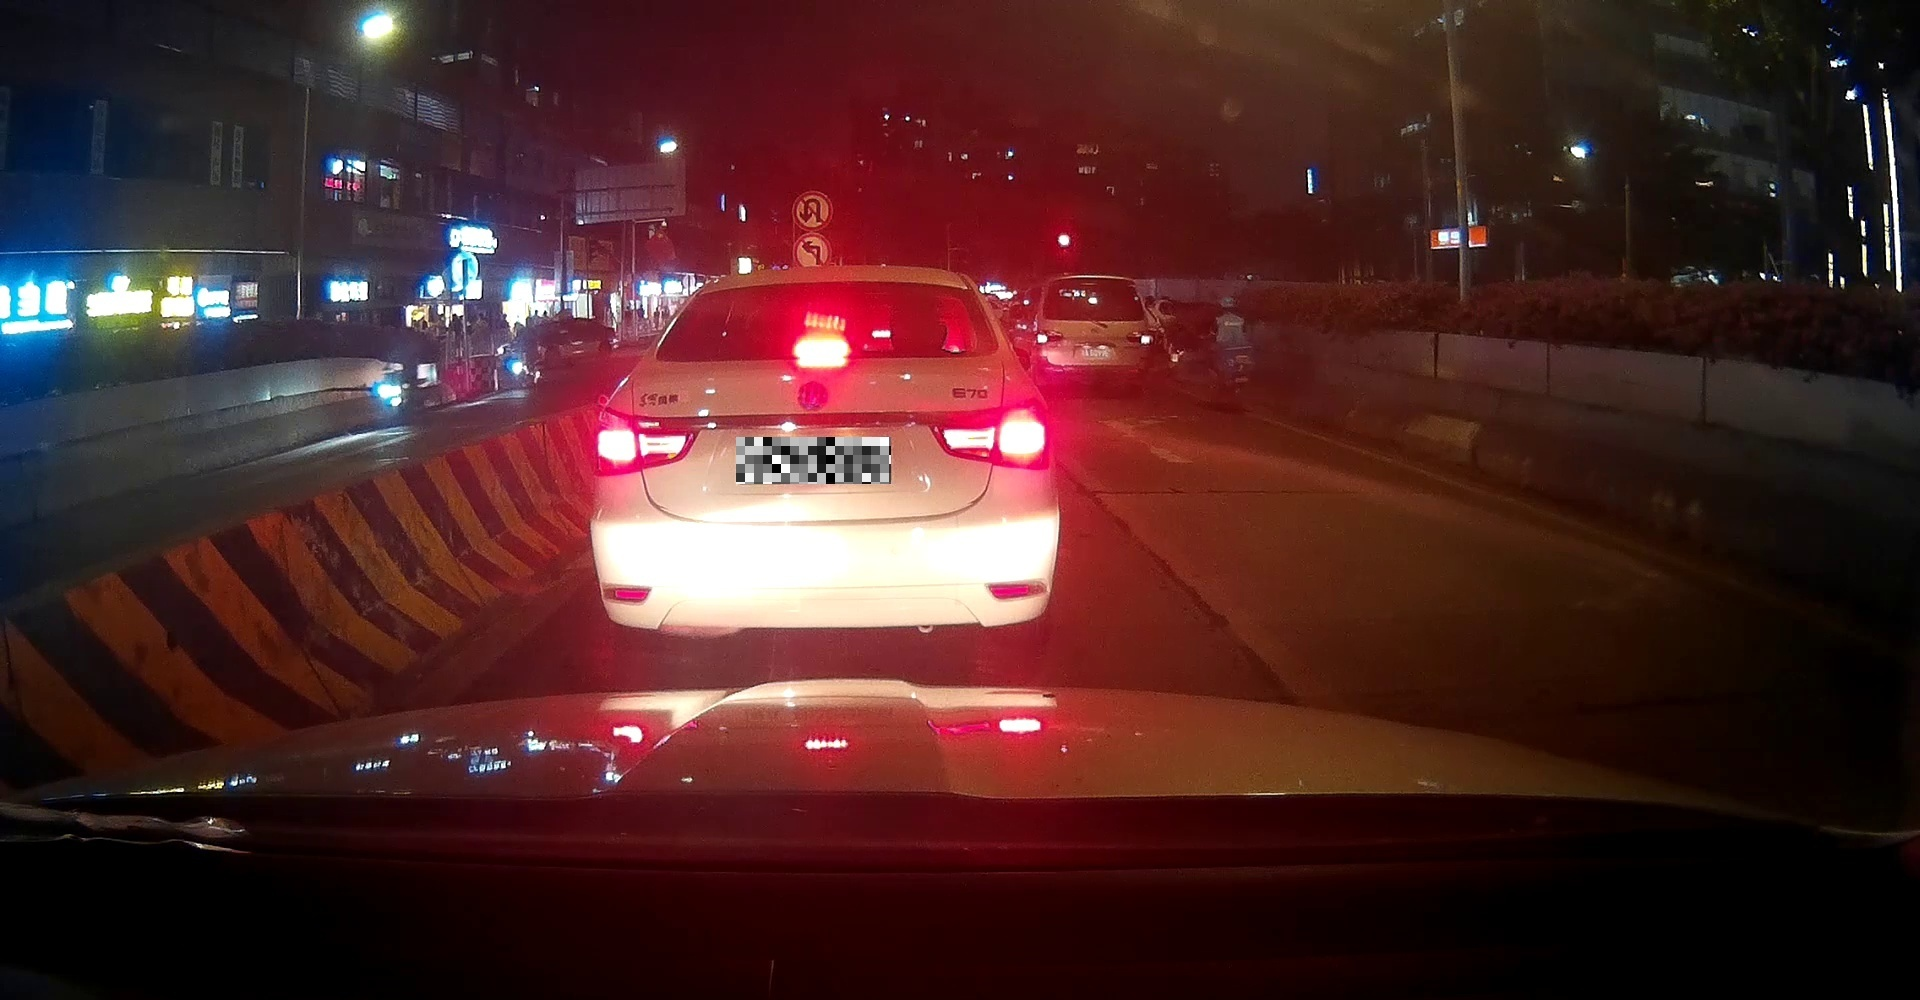L_light: (590, 407, 698, 478)
R_light: (930, 398, 1048, 470)
T_light: (794, 340, 850, 358)
night-brake: (590, 266, 1060, 654)
plate_1: (737, 437, 891, 484)
